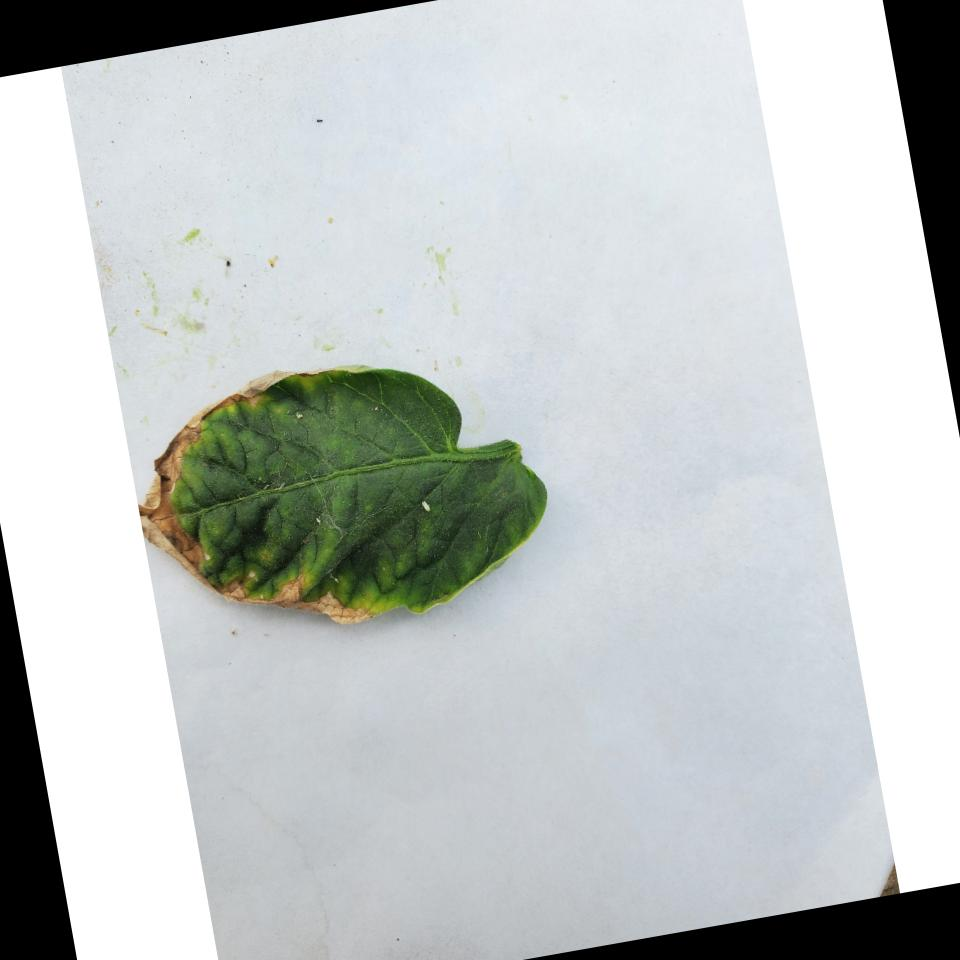tomato_bacterial_blight: (120, 318, 571, 659)
